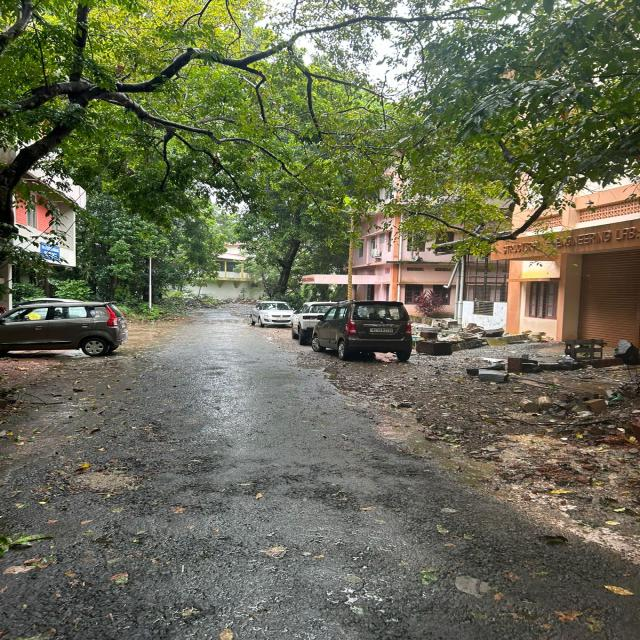car ahead at: (0, 283, 123, 363), (302, 296, 429, 366)
